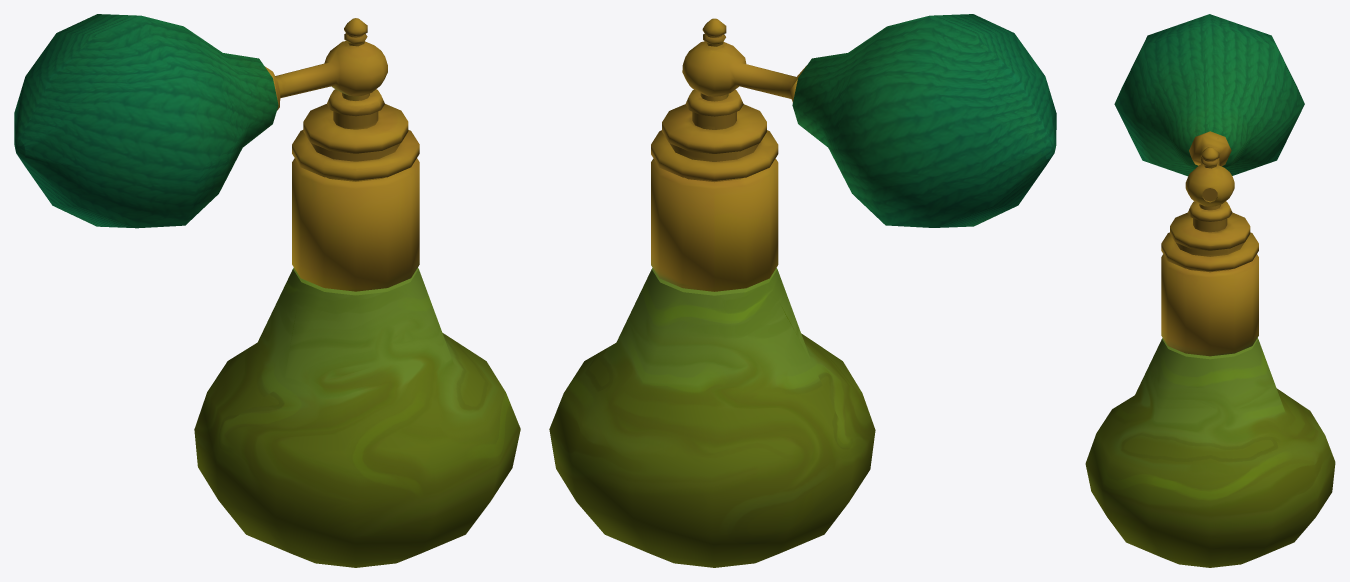
The model's file is Pulverizator.fbx.
The picture shows the model from 3 angles, left to right: view 1: azimuth 30°, elevation 25°; view 2: azimuth 150°, elevation 25°; view 3: azimuth 270°, elevation 25°; orthographic projection. The views are drawn at different scales.
Parts seen in each view (by area): view 1: Pulv_steklo, Pulv_ruchka, Pulv_metal; view 2: Pulv_steklo, Pulv_ruchka, Pulv_metal; view 3: Pulv_steklo, Pulv_ruchka, Pulv_metal.
Part boxes in pixels (<box>): Pulv_steklo: <box>194,267,520,567</box>; Pulv_ruchka: <box>14,14,278,228</box>; Pulv_metal: <box>265,18,419,291</box>; Pulv_steklo: <box>549,268,875,567</box>; Pulv_ruchka: <box>792,14,1056,227</box>; Pulv_metal: <box>651,18,806,291</box>; Pulv_steklo: <box>1085,338,1335,567</box>; Pulv_ruchka: <box>1114,14,1304,176</box>; Pulv_metal: <box>1161,131,1258,356</box>.
Size of the model in its own units: 27.91 by 31.48 by 16.32.
